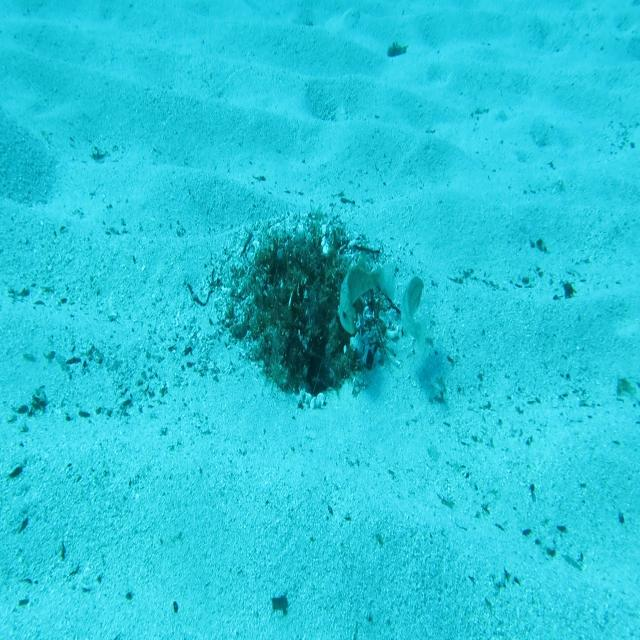BEND: (336, 250, 397, 338)
core_nest: (280, 252, 336, 287)
female: (401, 276, 434, 364)
nest: (210, 201, 403, 414)
